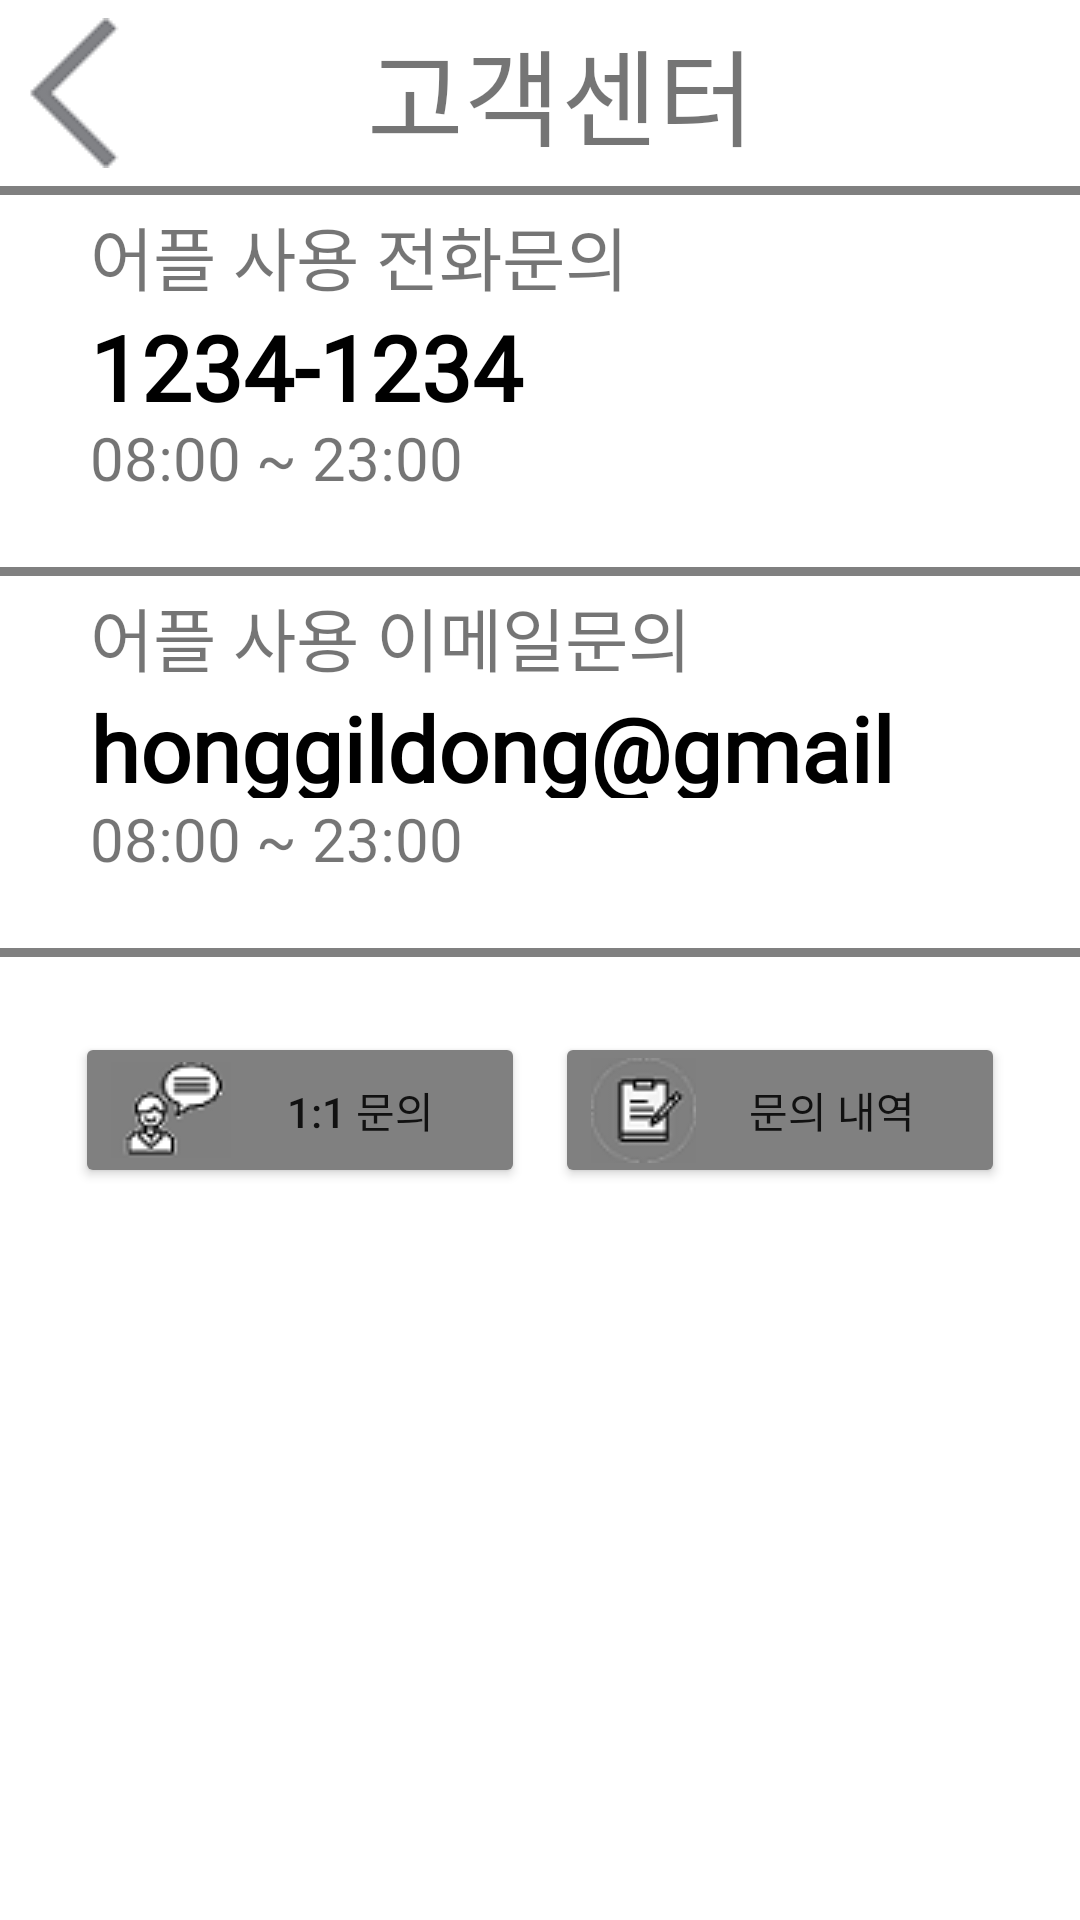

Point at icon controls on the screen. Image size 1080 x 1920, points as [x,y].
back space: [73,93]
